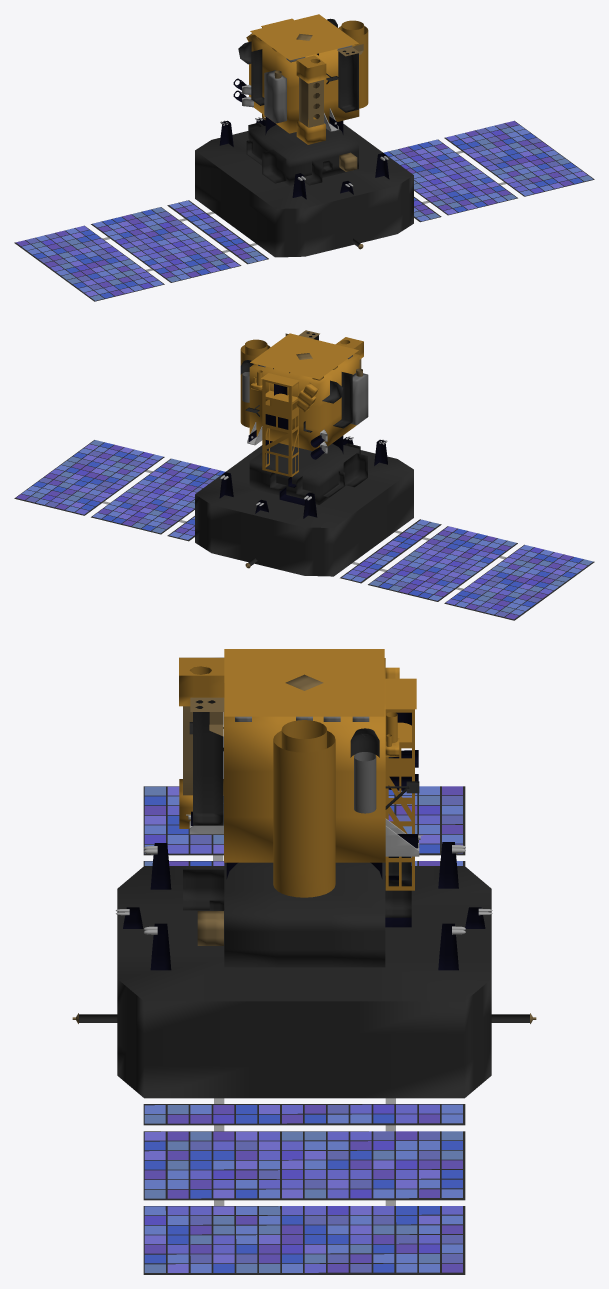
File: genericSat.dae
3 renders of one model, top to bottom at view 1: azimuth 30°, elevation 25°; view 2: azimuth 150°, elevation 25°; view 3: azimuth 270°, elevation 25°, orthographic. The views are drawn at different scales.
Visible parts, largest first — view 1: node_00000000_0000_0000_0000_000000000000_mesh0; view 2: node_00000000_0000_0000_0000_000000000000_mesh0; view 3: node_00000000_0000_0000_0000_000000000000_mesh0.
Part boxes in pixels (x1,y1,x2,y2): node_00000000_0000_0000_0000_000000000000_mesh0: [14, 14, 594, 301]; node_00000000_0000_0000_0000_000000000000_mesh0: [14, 330, 594, 620]; node_00000000_0000_0000_0000_000000000000_mesh0: [72, 649, 536, 1274].
Bounding box in the file's own units: 43.27 × 14.43 × 17.34.
